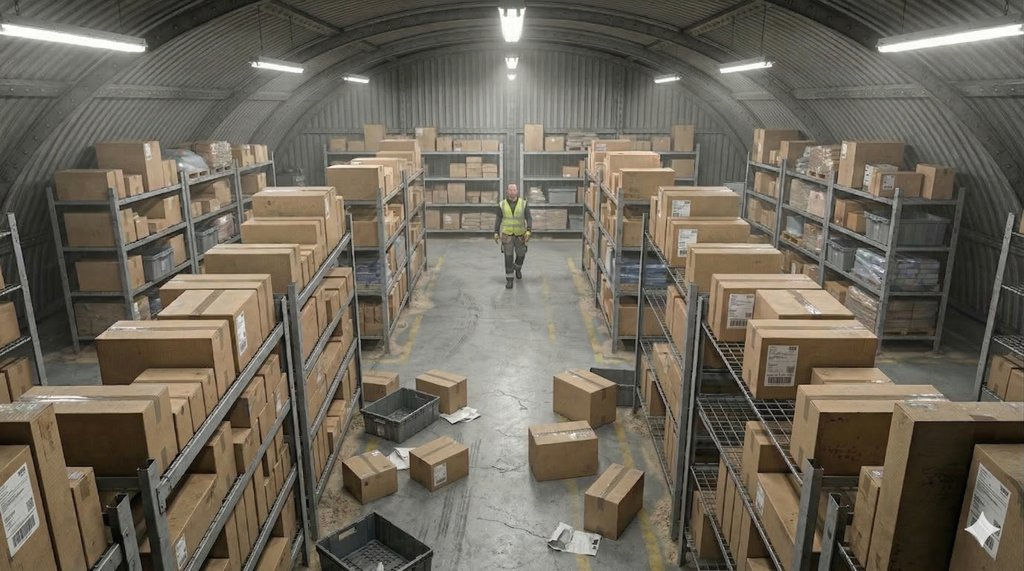obstacle: (301, 355, 669, 571)
person: (486, 176, 548, 296)
safety_vest: (494, 197, 532, 239)
